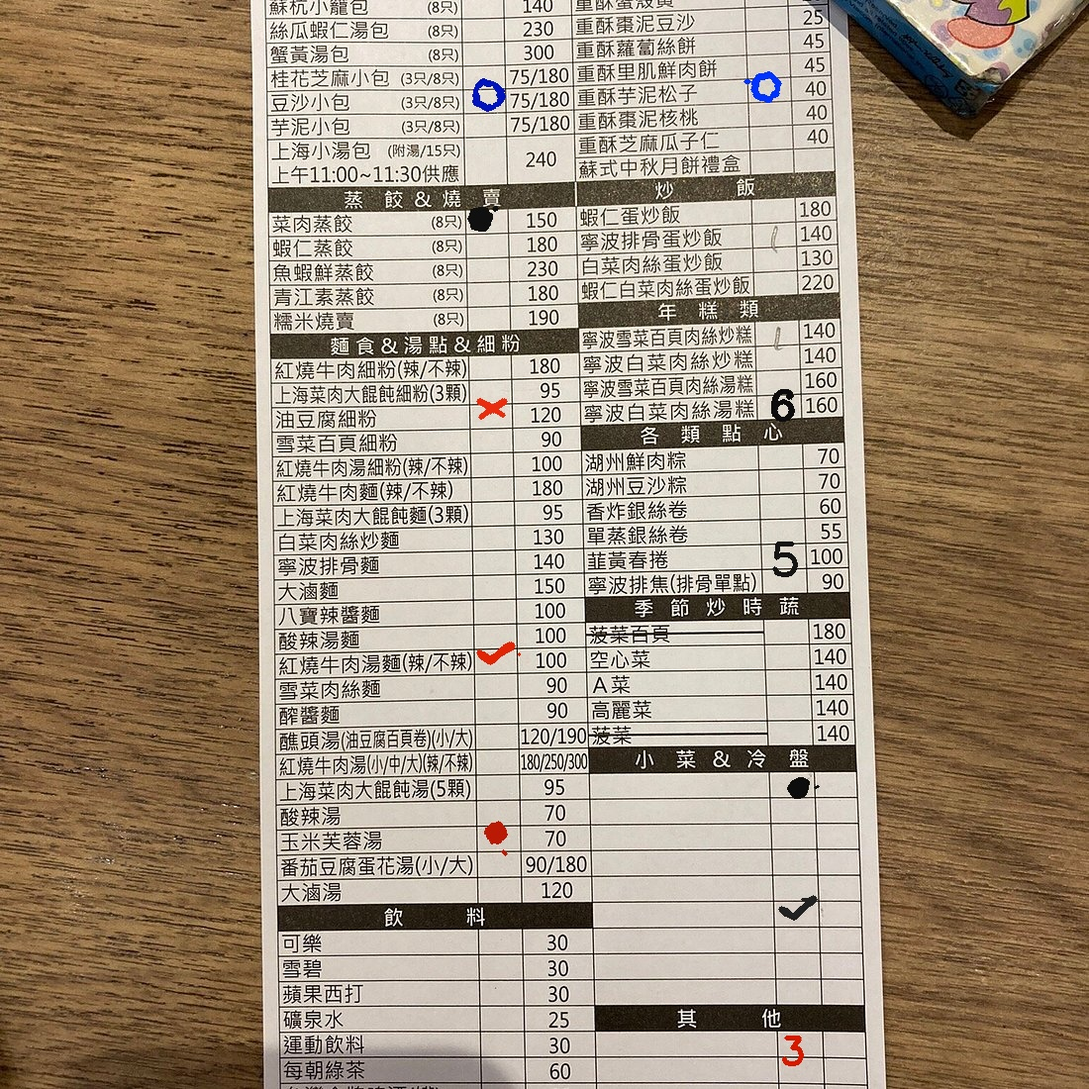marked_circle: (771, 769, 815, 797), (466, 208, 510, 236), (477, 826, 521, 853)
marked_hollow: (748, 73, 792, 101), (463, 84, 507, 112)
marked_number_3: (776, 1030, 820, 1057)
marked_number_5: (762, 543, 806, 570)
marked_number_6: (757, 393, 801, 421)
marked_tick: (475, 647, 519, 675), (774, 899, 818, 927)
marked_x: (468, 402, 512, 430)
